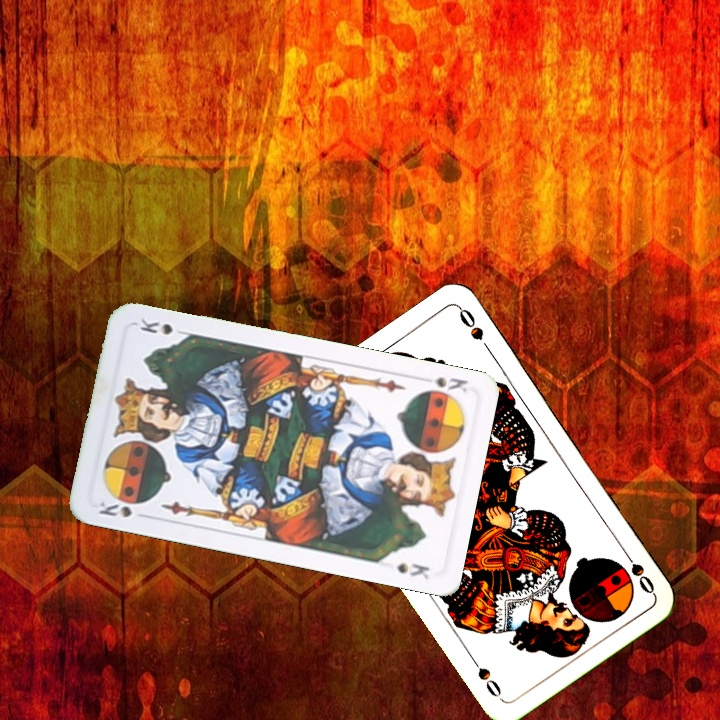SK: (417, 372, 471, 402), (93, 497, 151, 521)
SO: (618, 544, 657, 597)
